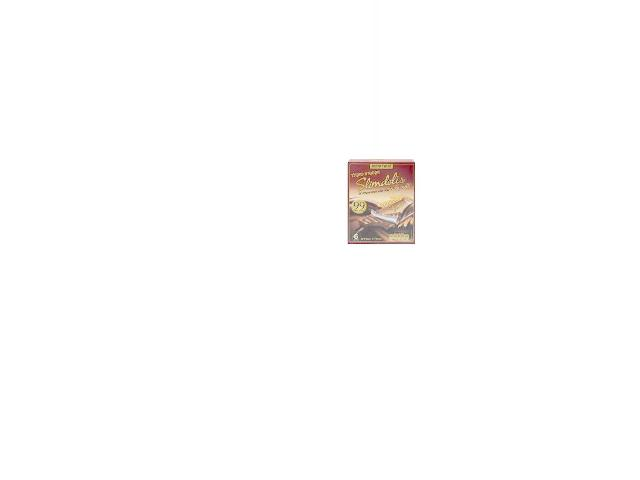chocolate: (347, 158, 414, 244)
